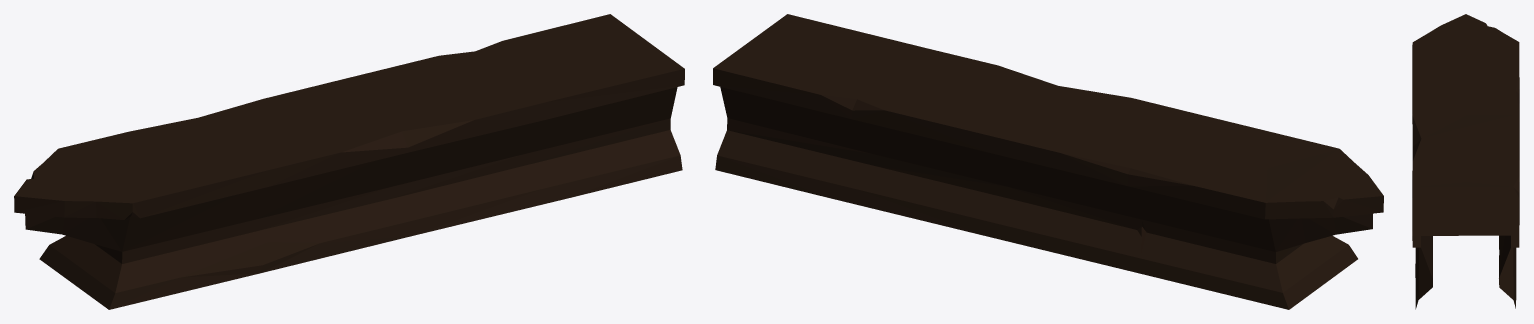
The model's file is SFFA_Forge_Oven_Anvil 1.fbx.
3 renders of one model, left to right at view 1: azimuth 30°, elevation 25°; view 2: azimuth 150°, elevation 25°; view 3: azimuth 270°, elevation 25°, orthographic. The views are drawn at different scales.
Parts seen in each view (by area): view 1: SFFA_Forge_Oven_Anvil; view 2: SFFA_Forge_Oven_Anvil; view 3: SFFA_Forge_Oven_Anvil.
Boxes of the visible parts, x1,y1,x2,y2 form: SFFA_Forge_Oven_Anvil: (14,14,684,309); SFFA_Forge_Oven_Anvil: (713,14,1383,309); SFFA_Forge_Oven_Anvil: (1412,14,1519,309).
Size of the model in its own units: 495 by 77.39 by 101.
